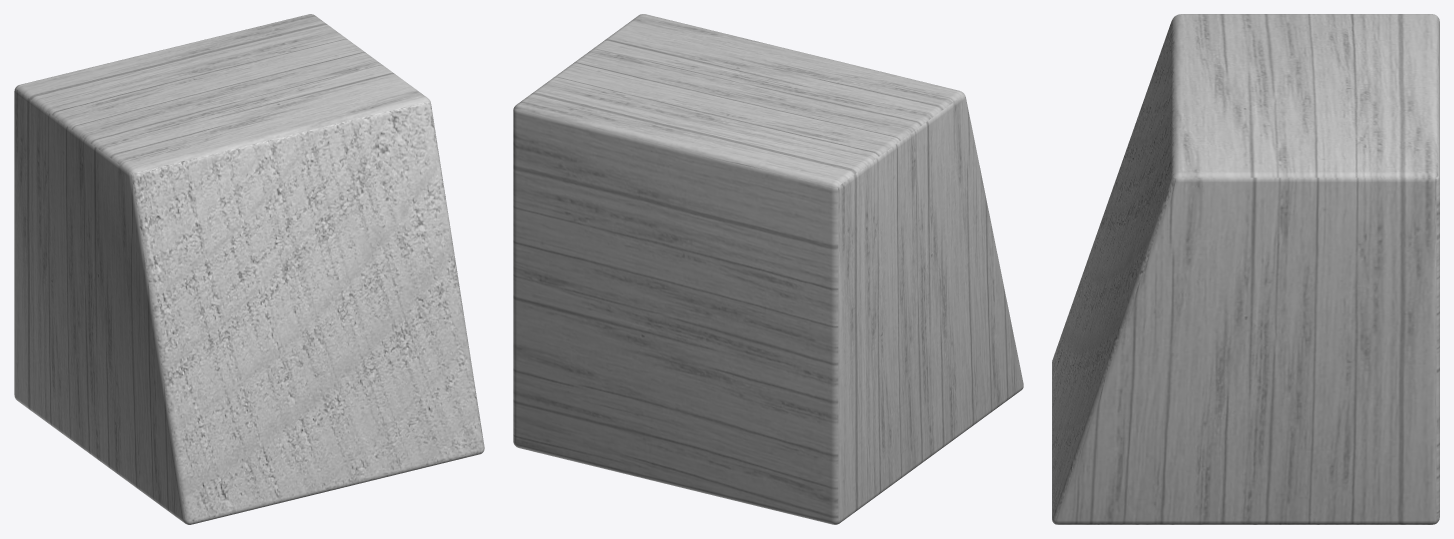
The picture shows the model from 3 angles, left to right: view 1: azimuth 30°, elevation 25°; view 2: azimuth 150°, elevation 25°; view 3: azimuth 270°, elevation 25°; orthographic projection. The views are drawn at different scales.
Visible parts, largest first — view 1: Cubo_optimizado_Export 3; view 2: Cubo_optimizado_Export 3; view 3: Cubo_optimizado_Export 3.
Boxes of the visible parts, bbox=[...] form: Cubo_optimizado_Export 3: bbox=[14, 14, 484, 524]; Cubo_optimizado_Export 3: bbox=[513, 14, 1023, 524]; Cubo_optimizado_Export 3: bbox=[1052, 14, 1439, 524].
Size of the model in its own units: 2 by 2 by 2.
Materials: 1 (1 with a texture image).
